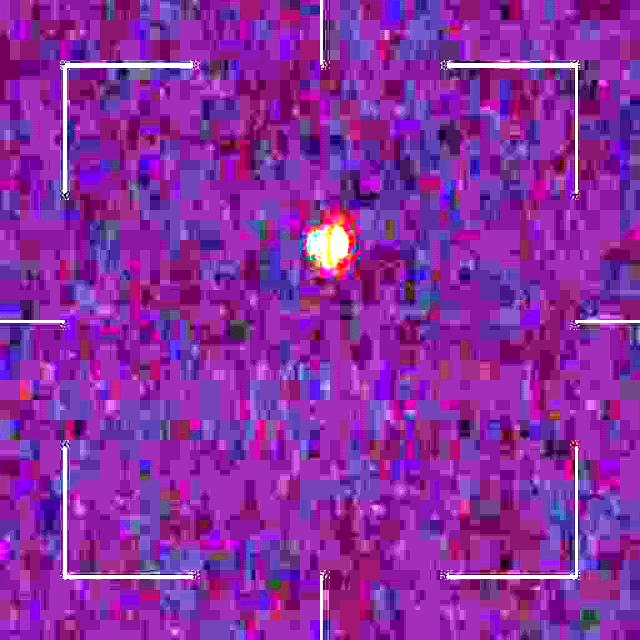bird: (315, 221, 351, 275)
